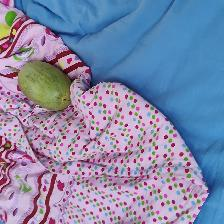gua: (19, 65, 68, 116)
